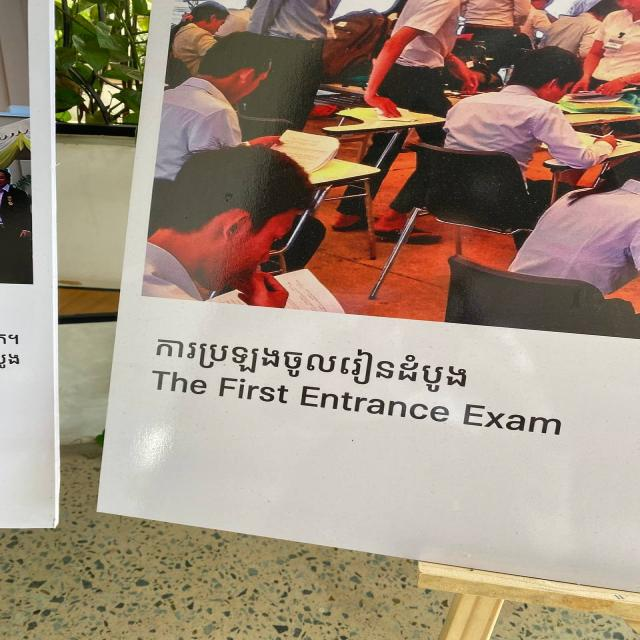Yolov11kh: (151, 330, 471, 398)
